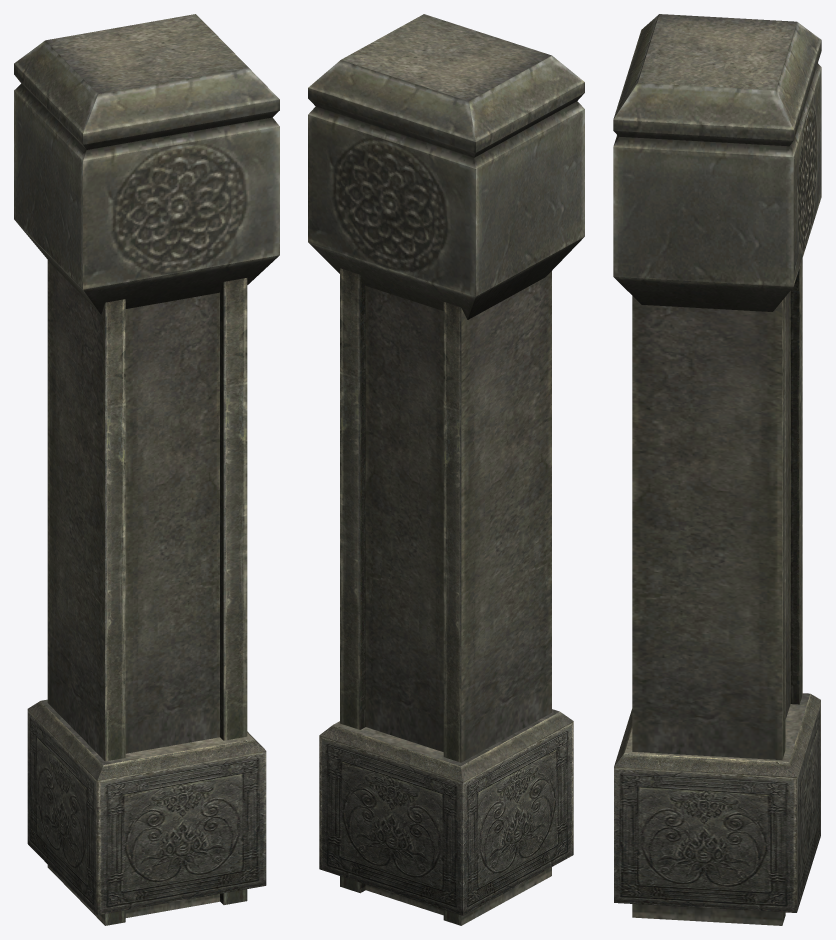
Rendered from 4st_pillar_001.fbx.
The picture shows the model from 3 angles, left to right: view 1: azimuth 30°, elevation 25°; view 2: azimuth 150°, elevation 25°; view 3: azimuth 270°, elevation 25°; orthographic projection.
Visible parts, largest first — view 1: 2st_pillar_001; view 2: 2st_pillar_001; view 3: 2st_pillar_001.
Part boxes in pixels (<box>): 2st_pillar_001: <box>14,14,279,925</box>; 2st_pillar_001: <box>308,14,584,925</box>; 2st_pillar_001: <box>613,14,821,925</box>.
Bounding box in the file's own units: 4.66 × 18.18 × 4.1.
